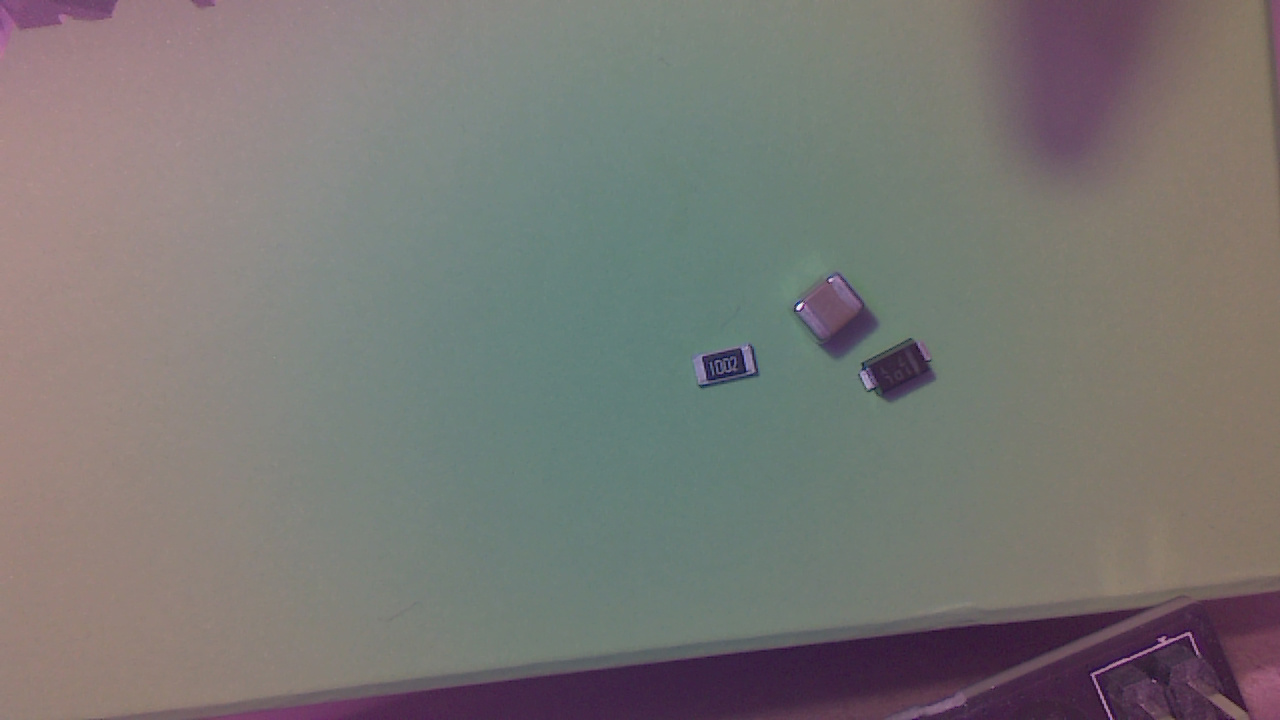Condensator: (796, 278, 871, 345)
Diode: (863, 345, 939, 399)
Resistor: (695, 349, 763, 394)
